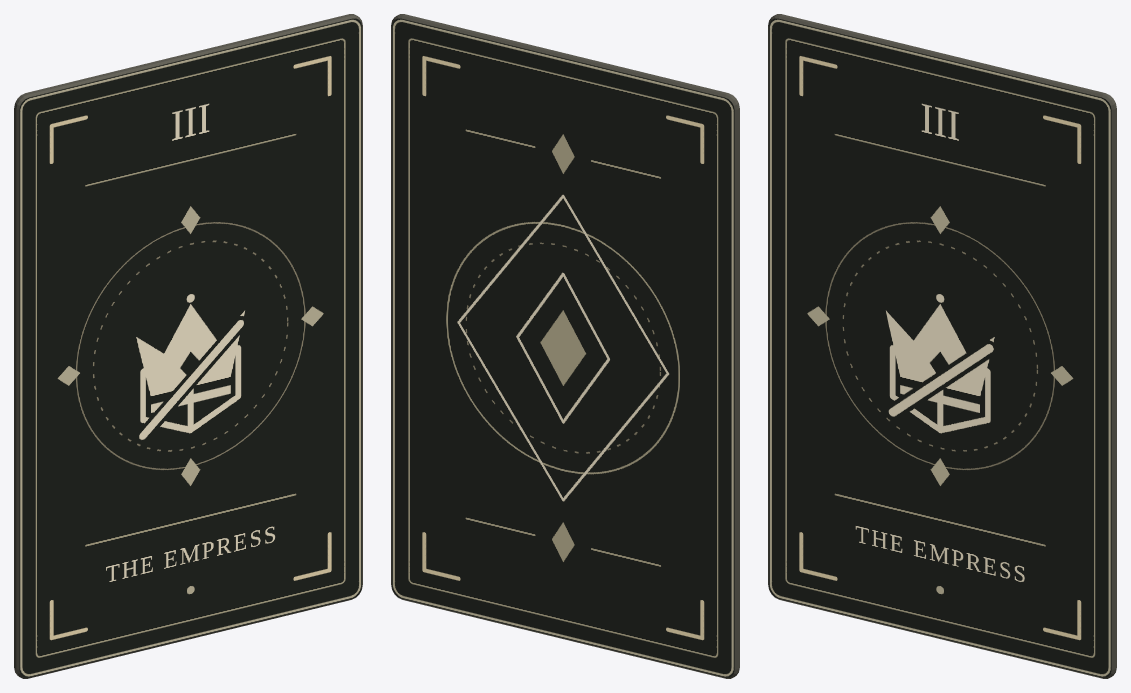
File: empress.glb
3 renders of one model, left to right at view 1: azimuth 30°, elevation 25°; view 2: azimuth 150°, elevation 25°; view 3: azimuth 330°, elevation 25°, orthographic.
Visible parts, largest first — view 1: empress; view 2: empress; view 3: empress.
Part boxes in pixels (x1,y1,x2,y2): empress: (14, 14, 362, 678); empress: (391, 14, 739, 678); empress: (768, 14, 1116, 678).
Bounding box in the file's own units: 0.18 × 0.29 × 0.004.
Materials: 3 (2 with a texture image).
